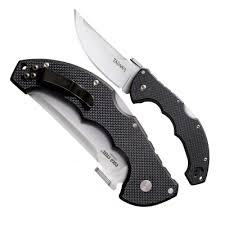knife: (48, 2, 213, 178)
